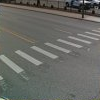crosswalk: (0, 29, 99, 74)
